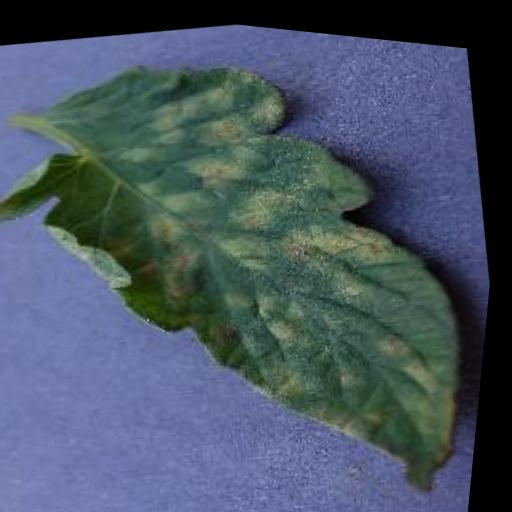Leaf Mold: (0, 0, 510, 512)
